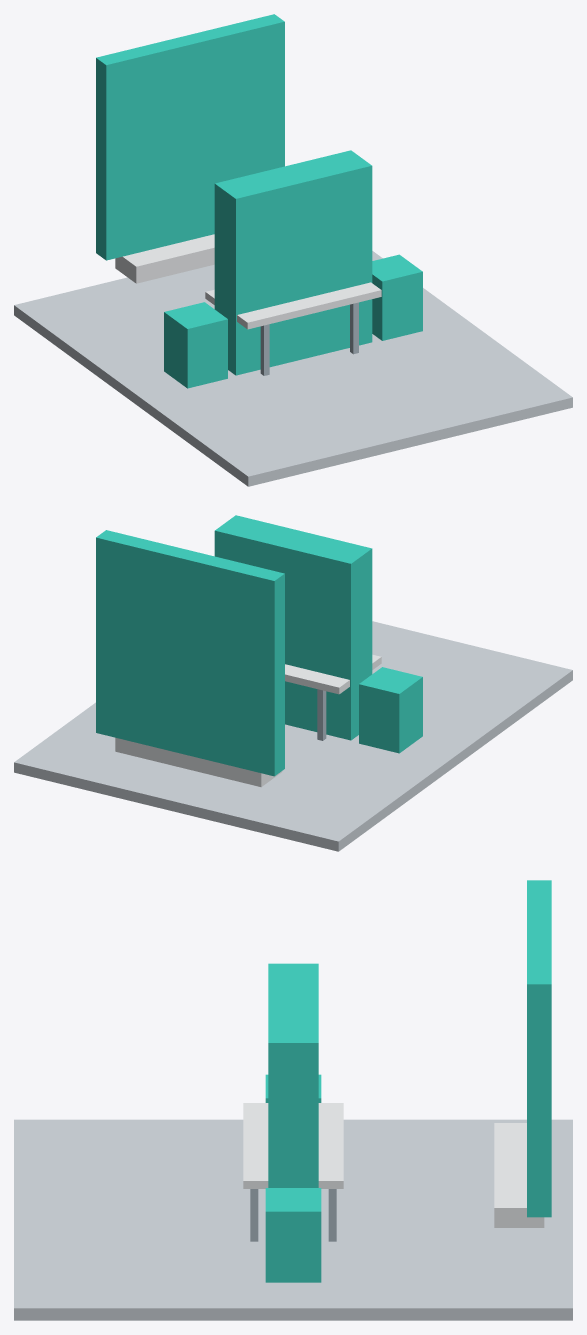
The picture shows the model from 3 angles, top to bottom: view 1: azimuth 30°, elevation 25°; view 2: azimuth 150°, elevation 25°; view 3: azimuth 270°, elevation 25°; orthographic projection. The views are drawn at different scales.
Parts seen in each view (by area): view 1: Exhibition Booth Concept; view 2: Exhibition Booth Concept; view 3: Exhibition Booth Concept.
Boxes of the visible parts, x1,y1,x2,y2 form: Exhibition Booth Concept: [14, 14, 572, 486]; Exhibition Booth Concept: [14, 515, 572, 851]; Exhibition Booth Concept: [14, 880, 572, 1320].
Bounding box in the file's own units: 4 × 2.9 × 5.
